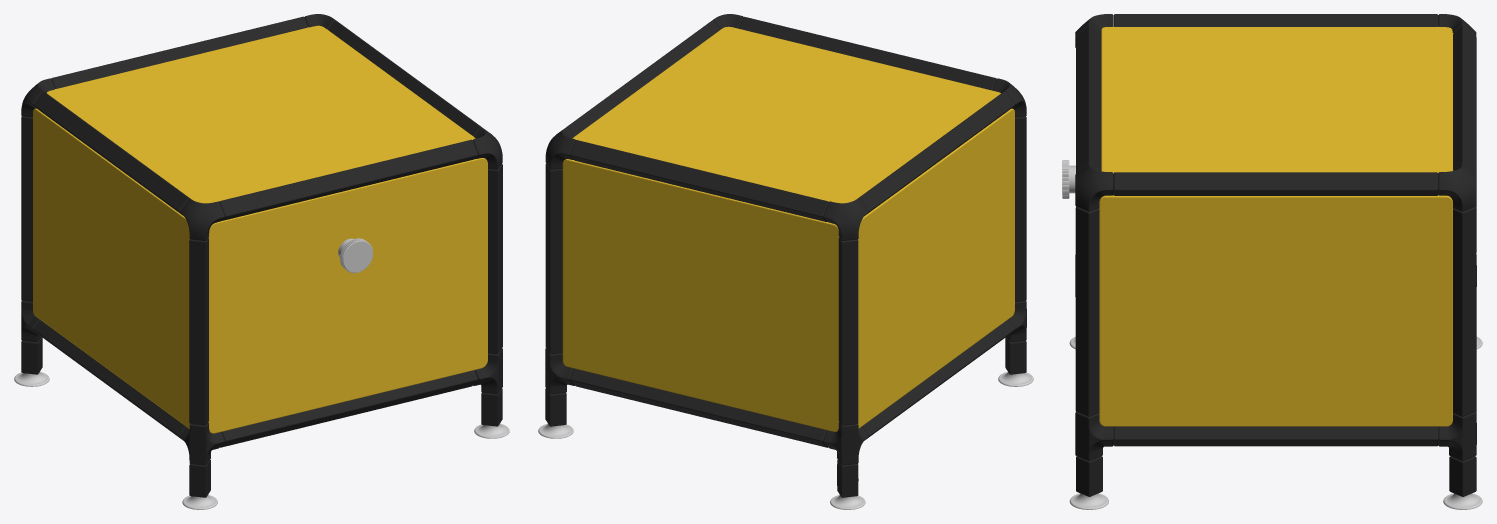
3 views of the same model, side by side, from view 1: azimuth 30°, elevation 25°; view 2: azimuth 150°, elevation 25°; view 3: azimuth 270°, elevation 25° (orthographic). The views are drawn at different scales.
Parts seen in each view (by area): view 1: 329x329x229; view 2: 329x329x229; view 3: 329x329x229.
Boxes of the visible parts, box(x1,y1,x2,y2) form: 329x329x229: box(14, 14, 509, 509); 329x329x229: box(538, 14, 1033, 509); 329x329x229: box(1062, 14, 1482, 509).
Size of the model in its own units: 0.4189 by 0.3683 by 0.4257.
